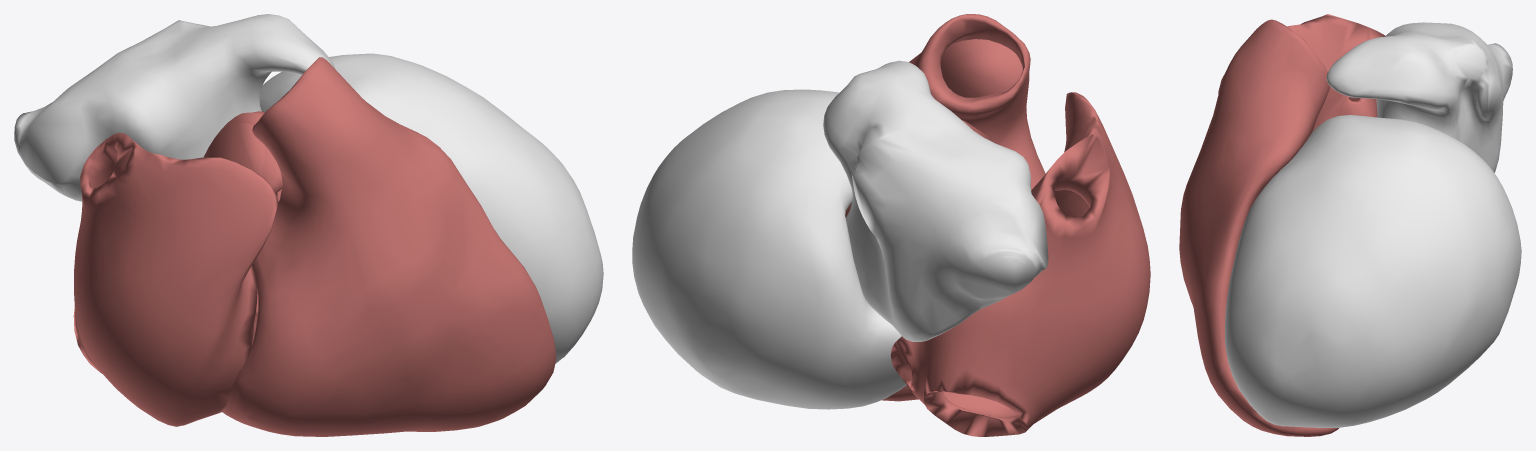
Rendered from vh_f_heart-40.fbx.
3 renders of one model, left to right at view 1: azimuth 30°, elevation 25°; view 2: azimuth 150°, elevation 25°; view 3: azimuth 270°, elevation 25°, orthographic. The views are drawn at different scales.
Visible parts, largest first — view 1: VH_F_right_ventricle, VH_F_right_cardiac_atrium, VH_F_left_ventricle, VH_F_left_cardiac_atrium, VH_F_aortic_valve; view 2: VH_F_left_ventricle, VH_F_left_cardiac_atrium, VH_F_right_cardiac_atrium, VH_F_right_ventricle, VH_F_pulmonary_valve; view 3: VH_F_left_ventricle, VH_F_right_ventricle, VH_F_left_cardiac_atrium, VH_F_right_cardiac_atrium, VH_F_aortic_valve.
Boxes of the visible parts, bbox=[...] form: VH_F_right_ventricle: bbox=[222, 57, 556, 436]; VH_F_right_cardiac_atrium: bbox=[73, 133, 278, 426]; VH_F_left_ventricle: bbox=[259, 53, 603, 363]; VH_F_left_cardiac_atrium: bbox=[14, 14, 334, 201]; VH_F_aortic_valve: bbox=[203, 111, 282, 202]; VH_F_left_ventricle: bbox=[632, 89, 906, 409]; VH_F_left_cardiac_atrium: bbox=[823, 60, 1048, 341]; VH_F_right_cardiac_atrium: bbox=[890, 92, 1150, 436]; VH_F_right_ventricle: bbox=[882, 14, 1045, 401]; VH_F_pulmonary_valve: bbox=[940, 39, 1022, 108]; VH_F_left_ventricle: bbox=[1224, 115, 1521, 427]; VH_F_right_ventricle: bbox=[1179, 19, 1339, 436]; VH_F_left_cardiac_atrium: bbox=[1326, 22, 1512, 172]; VH_F_right_cardiac_atrium: bbox=[1218, 14, 1385, 101]; VH_F_aortic_valve: bbox=[1312, 87, 1377, 131].
Size of the model in its own units: 14.25 by 11 by 10.15.
